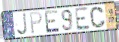9: (61, 9, 74, 31)
C: (89, 6, 106, 29)
E: (44, 9, 61, 34), (74, 7, 91, 31)
J: (16, 12, 29, 36)
P: (29, 11, 43, 35)
